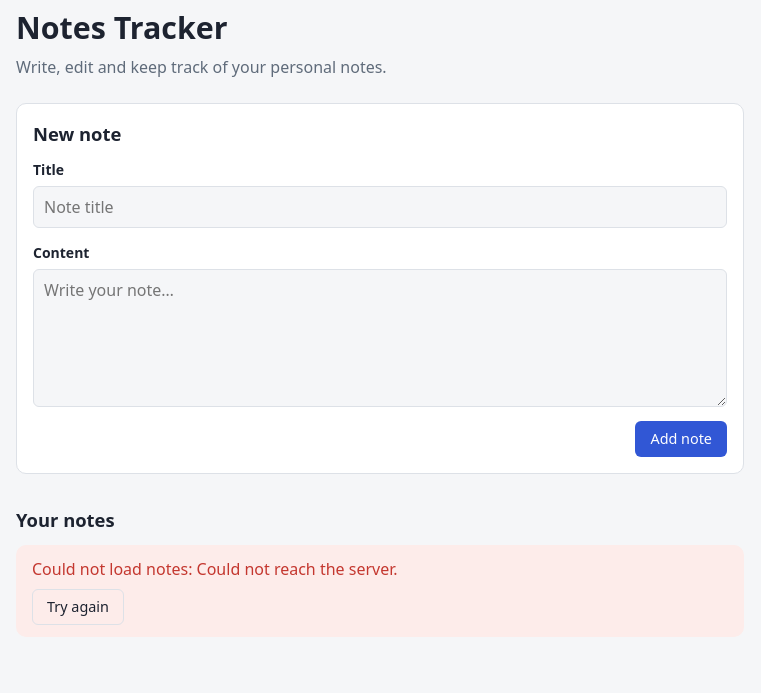
Scenario: App › shows a load error with a retry button
expect the message shows "Could not reach the server.": met, box [197,558,398,580]
Click the button "Try again" at (78, 607), box [32,589,124,625]
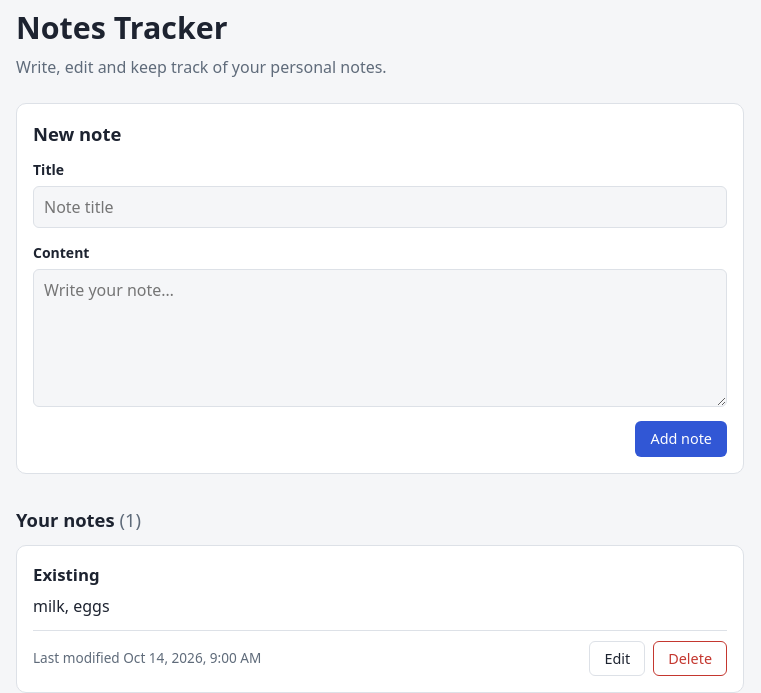
expect the list item "Existing" is shown: met, box [16,545,744,692]
